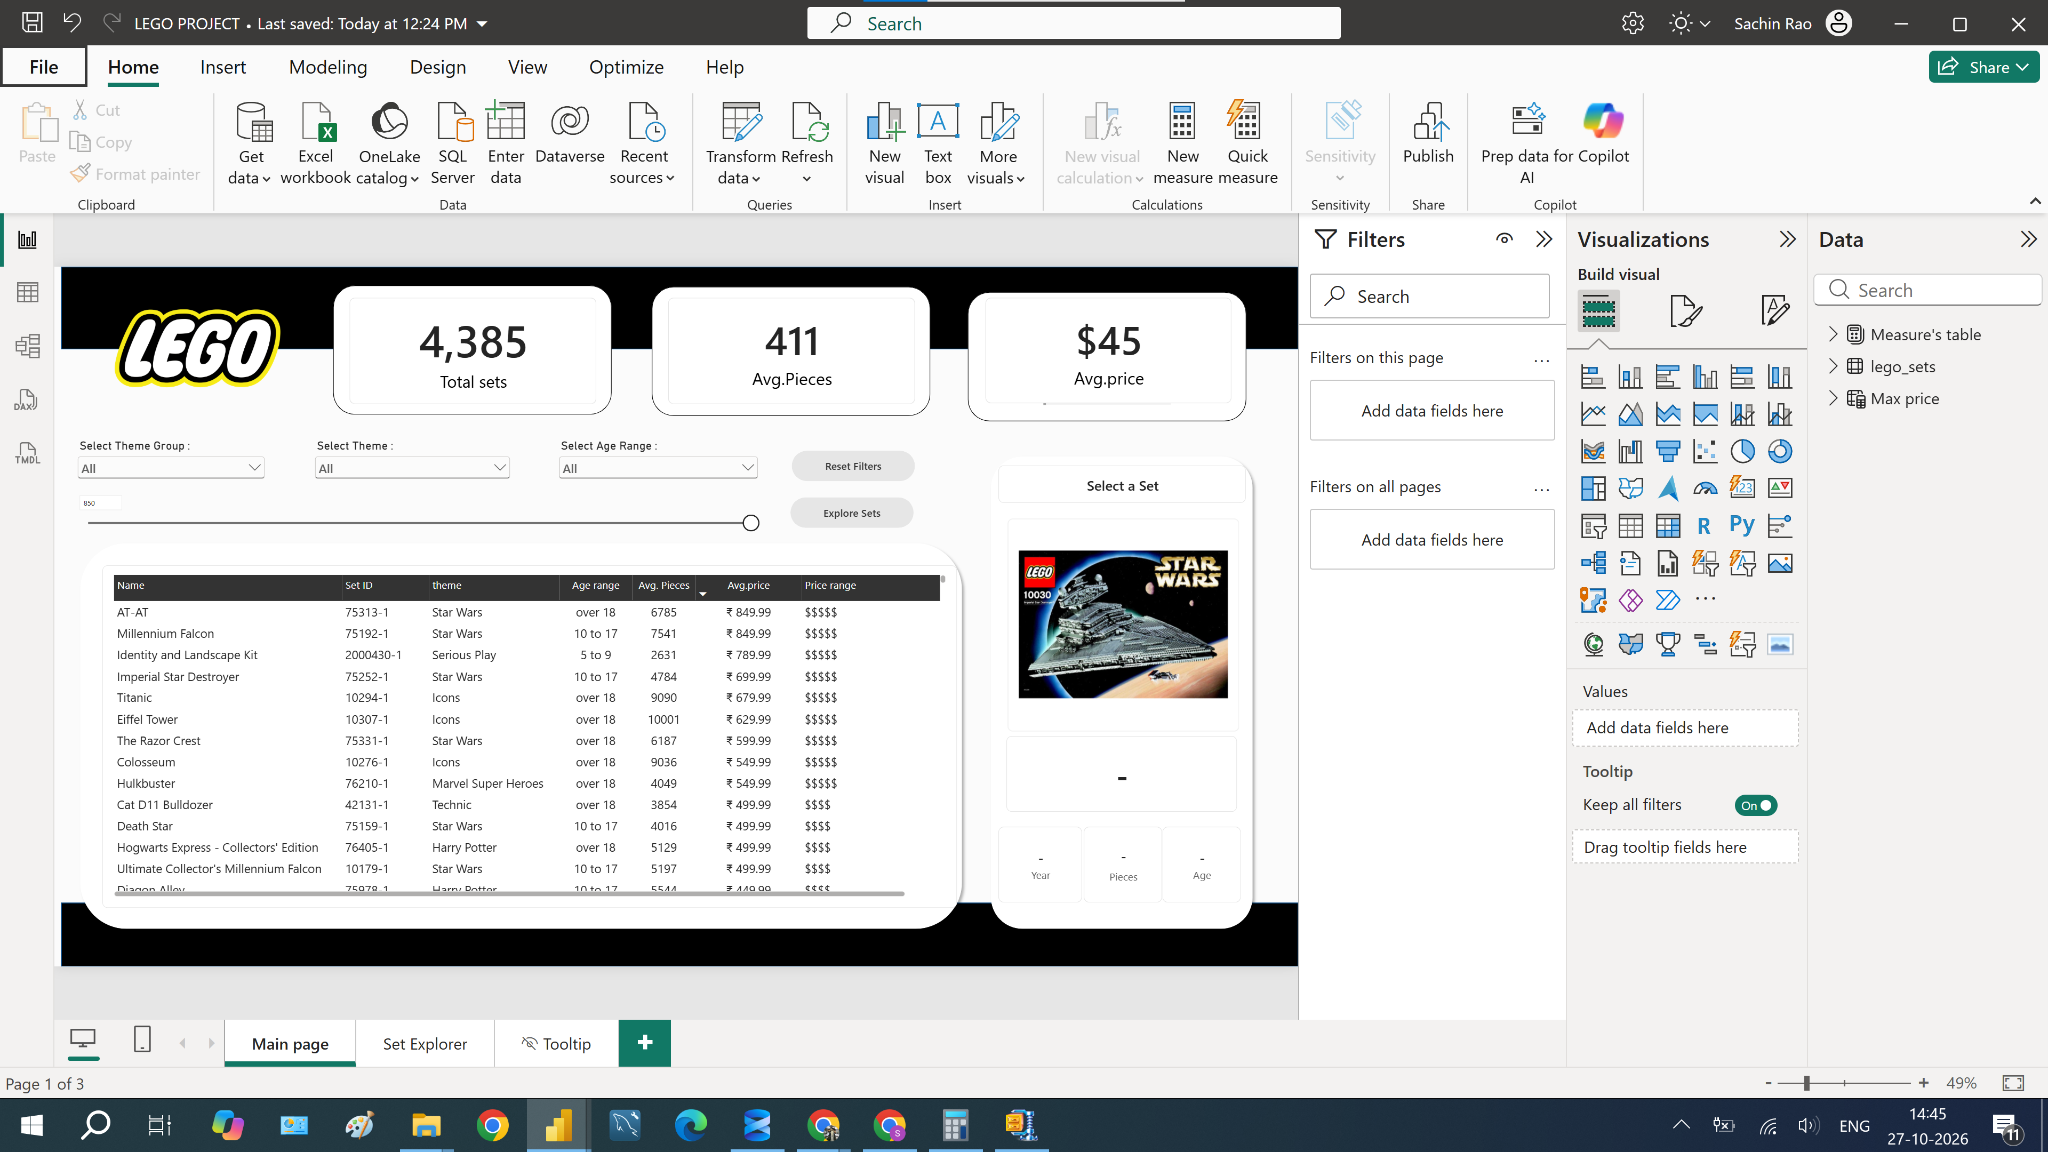

This screenshot's page, from the dashboard's own definition file:
{"tool":"powerbi","page":{"name":"Main page","canvas":[1920,1080],"ordinal":0},"visuals":[{"type":"shape","box":[10.3,0,1910.1,127.6],"z":0},{"type":"shape","box":[10.3,981.8,1910.1,98.8],"z":1000},{"type":"image","box":[30.9,53.5,380.8,150.3],"z":2000},{"type":"shape","box":[430.6,28.8,430.2,199.7],"z":3000},{"type":"shape","box":[922.5,30.9,430.2,199.7],"z":4000},{"type":"shape","box":[1410.4,39.1,430.2,199.7],"z":5000},{"type":"shape","box":[1436.7,284,422,747.2],"z":6000},{"type":"cardVisual","fields":{"Data":["Measure's table.Total sets"]},"box":[454.9,47.3,381,164],"z":7000},{"type":"cardVisual","box":[1434.7,49.4,381,164],"z":8000},{"type":"cardVisual","fields":{"Data":["Measure's table.Avg.price"]},"box":[1436.7,47.3,381,164],"z":9000},{"type":"cardVisual","fields":{"Data":["Measure's table.Avg.Pieces"]},"box":[945.8,47.3,381,164],"z":10000},{"type":"slicer","fields":{"Values":["lego_sets.themeGroup"]},"box":[30.9,265.5,298.5,102.9],"z":11000},{"type":"slicer","fields":{"Values":["lego_sets.theme"]},"box":[396.2,265.5,310.8,92.6],"z":12000},{"type":"slicer","fields":{"Values":["lego_sets.Age range"]},"box":[773.9,265.5,317,102.9],"z":13000},{"type":"shape","box":[30.9,417.8,1379.1,613.4],"z":14000},{"type":"tableEx","fields":{"Values":["lego_sets.name","lego_sets.set_id","lego_sets.theme","lego_sets.Age range","Measure's table.Avg.Pieces","Measure's table.Avg.price","lego_sets.Price range"]},"box":[73.2,460.7,1319.4,529],"z":15000},{"type":"cardVisual","fields":{"Data":["Measure's table.Selected Set"]},"box":[1457.2,307.1,382.1,58.9],"z":16000},{"type":"simpleImageEBC4593F96F1425FB3D84C5BF02B5075","fields":{"imageURL":["lego_sets.imageURL"]},"box":[1471.4,389.3,357.1,328.6],"z":17000},{"type":"cardVisual","fields":{"Data":["Measure's table.Selected Price"]},"box":[1469.7,725,356.1,117.3],"z":18000},{"type":"cardVisual","fields":{"Data":["Measure's table.Selected year"]},"box":[1457.3,864.5,129.7,117.3],"z":19000},{"type":"cardVisual","fields":{"Data":["Measure's table.Selected pieces"]},"box":[1589,864.5,121.4,117.3],"z":20000},{"type":"cardVisual","fields":{"Data":["Measure's table.Selected Age"]},"box":[1710.5,864.5,121.4,117.3],"z":21000},{"type":"slicer","fields":{"Values":["Max price.Max price"]},"box":[29.9,348.5,1060.5,68.4],"z":22000},{"type":"actionButton","box":[1137.5,284.4,190.3,47],"z":23000},{"type":"actionButton","box":[1135.3,357.1,190.3,47],"z":24000}]}

Visuals, with their boxes on the page's 1920x1080 design canvas (x1, y1, x2, y2). These are canvas units, not pixel positions in the 2048x1152 screenshot, which may show the page scaled, cropped or inside an application window:
shape: {"x1": 10, "y1": 0, "x2": 1920, "y2": 128}
shape: {"x1": 10, "y1": 982, "x2": 1920, "y2": 1081}
image: {"x1": 31, "y1": 54, "x2": 412, "y2": 204}
shape: {"x1": 431, "y1": 29, "x2": 861, "y2": 228}
shape: {"x1": 922, "y1": 31, "x2": 1353, "y2": 231}
shape: {"x1": 1410, "y1": 39, "x2": 1841, "y2": 239}
shape: {"x1": 1437, "y1": 284, "x2": 1859, "y2": 1031}
cardVisual - Measure's table.Total sets: {"x1": 455, "y1": 47, "x2": 836, "y2": 211}
cardVisual: {"x1": 1435, "y1": 49, "x2": 1816, "y2": 213}
cardVisual - Measure's table.Avg.price: {"x1": 1437, "y1": 47, "x2": 1818, "y2": 211}
cardVisual - Measure's table.Avg.Pieces: {"x1": 946, "y1": 47, "x2": 1327, "y2": 211}
slicer - lego_sets.themeGroup: {"x1": 31, "y1": 266, "x2": 329, "y2": 368}
slicer - lego_sets.theme: {"x1": 396, "y1": 266, "x2": 707, "y2": 358}
slicer - lego_sets.Age range: {"x1": 774, "y1": 266, "x2": 1091, "y2": 368}
shape: {"x1": 31, "y1": 418, "x2": 1410, "y2": 1031}
tableEx - lego_sets.name x lego_sets.set_id: {"x1": 73, "y1": 461, "x2": 1393, "y2": 990}
cardVisual - Measure's table.Selected Set: {"x1": 1457, "y1": 307, "x2": 1839, "y2": 366}
simpleImageEBC4593F96F1425FB3D84C5BF02B5075 - lego_sets.imageURL: {"x1": 1471, "y1": 389, "x2": 1828, "y2": 718}
cardVisual - Measure's table.Selected Price: {"x1": 1470, "y1": 725, "x2": 1826, "y2": 842}
cardVisual - Measure's table.Selected year: {"x1": 1457, "y1": 864, "x2": 1587, "y2": 982}
cardVisual - Measure's table.Selected pieces: {"x1": 1589, "y1": 864, "x2": 1710, "y2": 982}
cardVisual - Measure's table.Selected Age: {"x1": 1710, "y1": 864, "x2": 1832, "y2": 982}
slicer - Max price.Max price: {"x1": 30, "y1": 348, "x2": 1090, "y2": 417}
actionButton: {"x1": 1138, "y1": 284, "x2": 1328, "y2": 331}
actionButton: {"x1": 1135, "y1": 357, "x2": 1326, "y2": 404}
